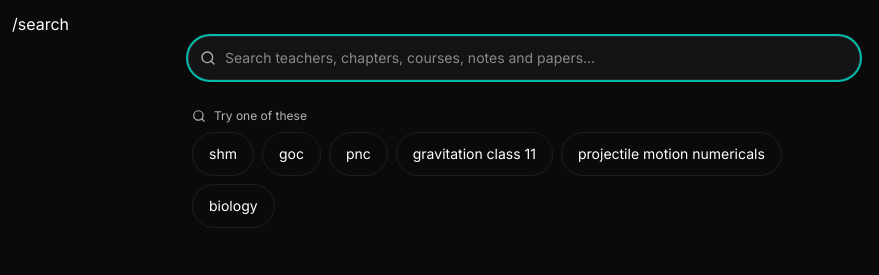
Test case: study material appears in the main search › shows the material's type and syllabus place under its title
The image size is (879, 275).
Type "kinematics notes" into the dropdown.
click(524, 58); type("kinematics notes")  # box [188, 36, 860, 80]
Wait 295 ms
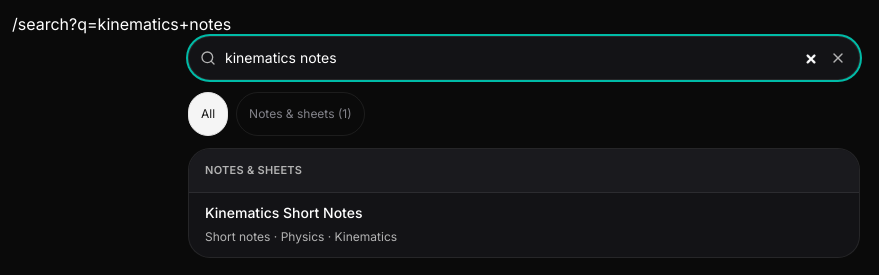
Check: the text "Kinematics Short Notes" is shown, box [205, 204, 362, 221]
Check: the text "Short notes · Physics · Kinematics" is shown, box [205, 229, 397, 244]
